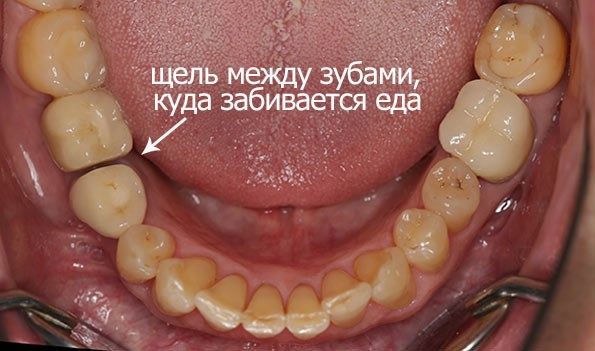LL1BC_healthy: (395, 213, 448, 267)
LL1M_healthy: (441, 81, 531, 167)
LL2BC_decay: (424, 160, 480, 227)
LL2M_decay: (474, 5, 565, 85)
LLCI_healthy: (286, 287, 328, 337)
LLC_healthy: (359, 250, 411, 303)
LLLI_healthy: (324, 274, 370, 324)
LR1BC_healthy: (119, 226, 175, 281)
LR1M_healthy: (45, 93, 133, 164)
LR2BC_healthy: (74, 168, 146, 230)
LR2M_healthy: (20, 13, 101, 92)
LRCI_healthy: (247, 288, 285, 337)
LRC_healthy: (156, 259, 214, 315)
LRLI_healthy: (199, 276, 245, 329)
